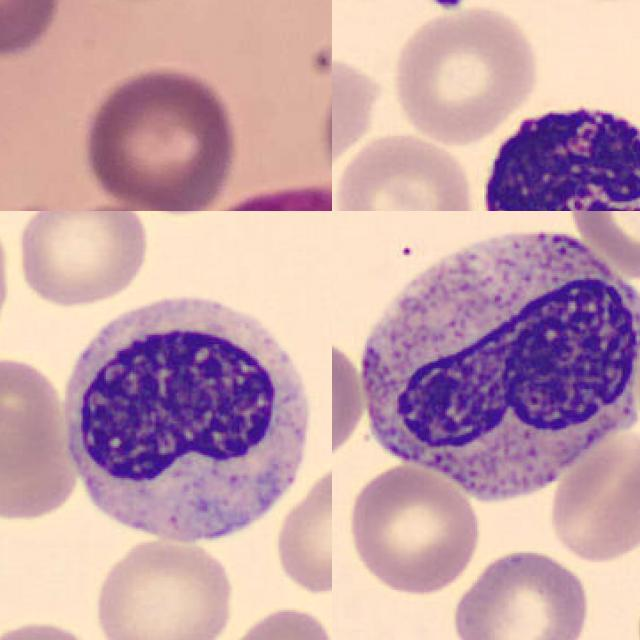Basophil: (462, 86, 640, 211)
Monocyte: (351, 213, 640, 518), (49, 281, 323, 556)
RBC: (387, 4, 545, 145), (344, 460, 482, 597), (90, 534, 237, 640), (448, 544, 594, 640), (0, 353, 81, 524), (13, 211, 152, 310), (544, 427, 640, 565), (332, 132, 480, 211), (271, 455, 332, 596), (332, 50, 388, 191), (564, 211, 640, 278), (203, 603, 332, 640), (332, 331, 368, 463)
